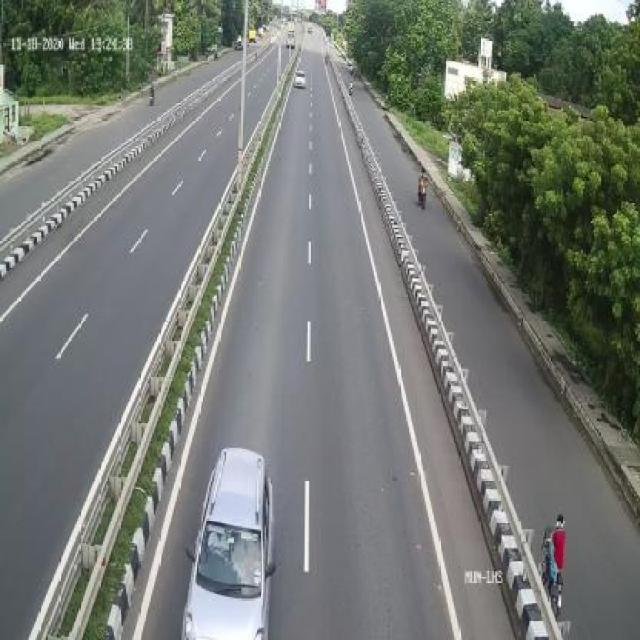car: (189, 444, 281, 640), (292, 62, 311, 89)
